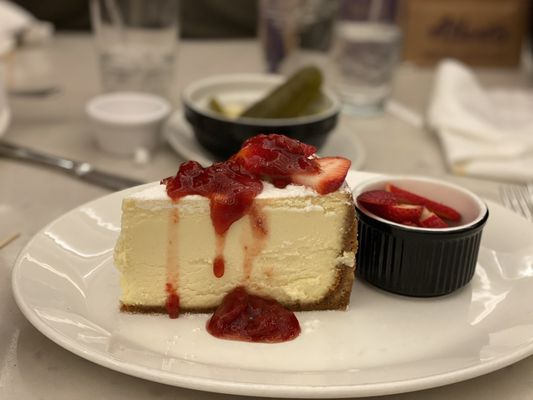burger: (499, 184, 533, 228)
pizza: (89, 0, 182, 98), (328, 19, 404, 113), (83, 90, 174, 163), (257, 0, 344, 72)
sandwich: (0, 137, 140, 192)
sushi: (351, 176, 489, 296), (184, 67, 343, 156), (83, 90, 174, 162)
